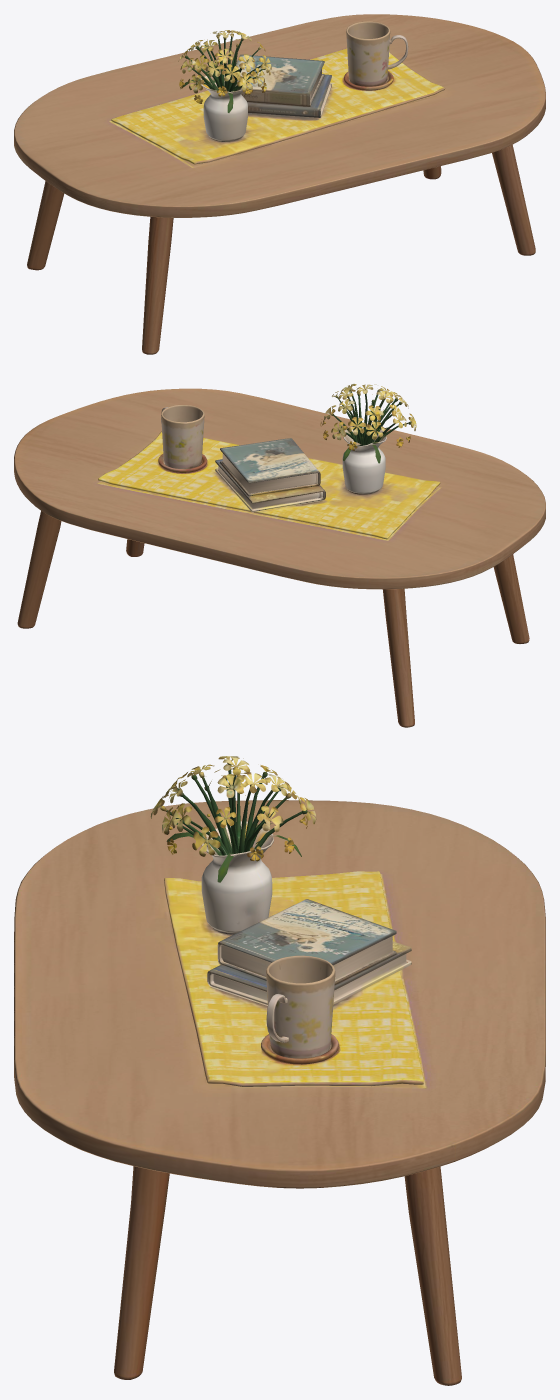
Rendered from low-table.glb.
3 views of the same model, one above another, from view 1: azimuth 30°, elevation 25°; view 2: azimuth 150°, elevation 25°; view 3: azimuth 270°, elevation 25° (orthographic). The views are drawn at different scales.
Visible parts, largest first — view 1: tripo_47943007_13b1_4c1e_b0d8_0f9ed154cdf3; view 2: tripo_47943007_13b1_4c1e_b0d8_0f9ed154cdf3; view 3: tripo_47943007_13b1_4c1e_b0d8_0f9ed154cdf3.
Part boxes in pixels (box(x1,y1,x2,y2)): tripo_47943007_13b1_4c1e_b0d8_0f9ed154cdf3: box(14, 14, 545, 354); tripo_47943007_13b1_4c1e_b0d8_0f9ed154cdf3: box(14, 384, 545, 727); tripo_47943007_13b1_4c1e_b0d8_0f9ed154cdf3: box(14, 756, 545, 1385).
Bounding box in the file's own units: 0.9995 × 0.5142 × 0.606.
Materials: 1 (1 with a texture image).
